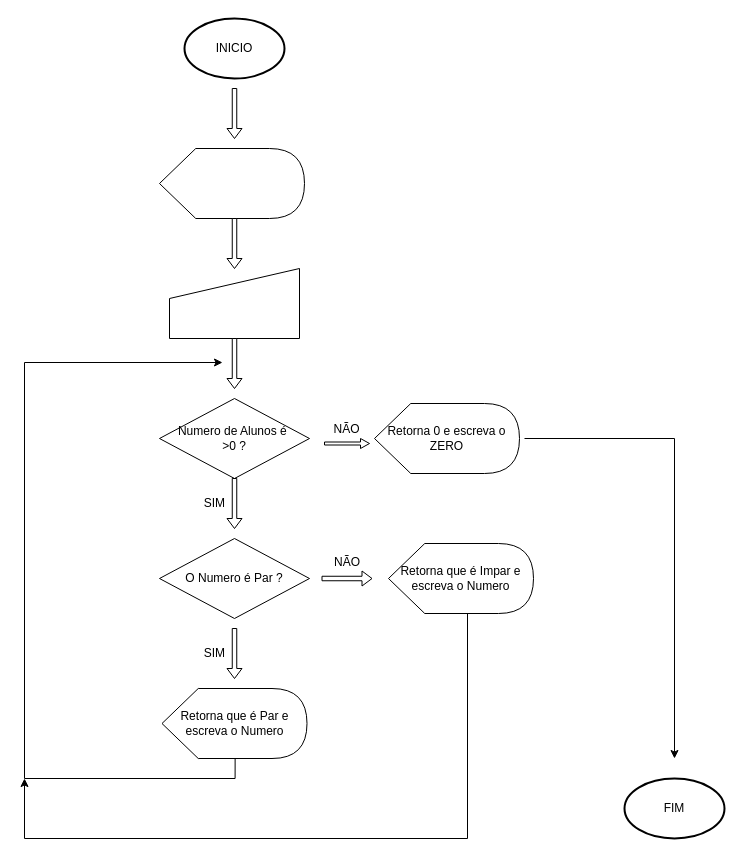
Image size: 743x864. Some labels were removed from this diagram. Here are the shapes that lost their labels. From the top down, the box of each, then its label:
(158, 148, 304, 218): Quantos Alunos há na turma ?
(168, 268, 300, 338): Informação Usuario
